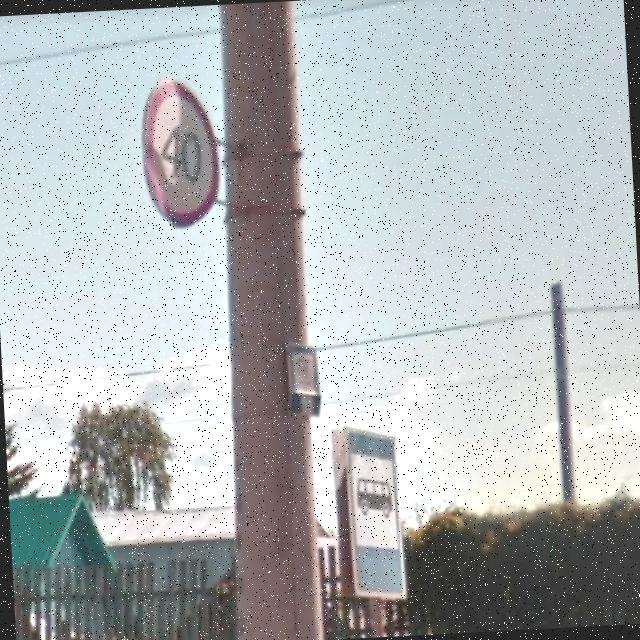Ograniczenie predkosci do 40: (138, 76, 225, 232)
